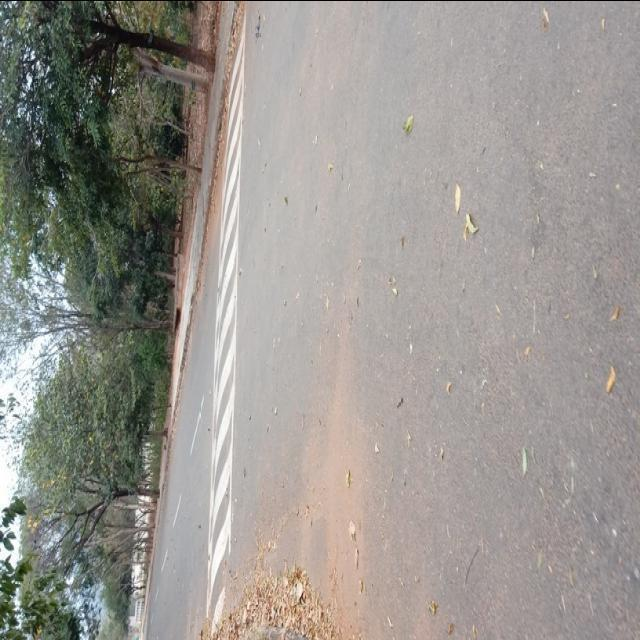speedbreaker: (219, 53, 241, 640)
